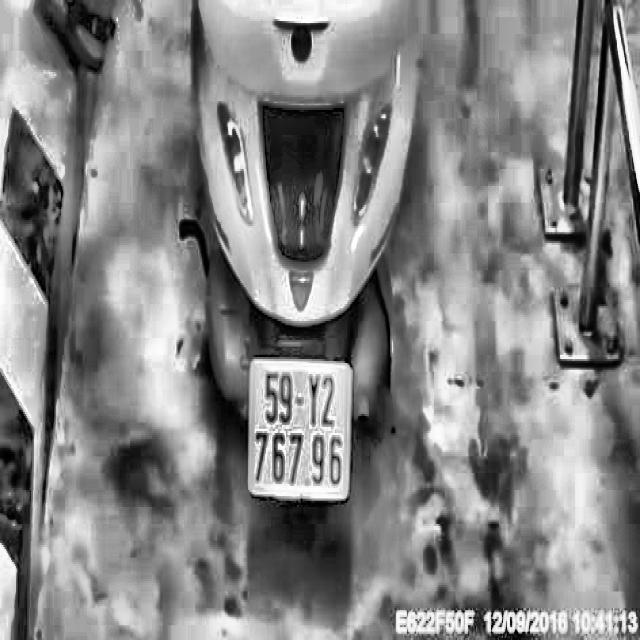plate: (244, 348, 355, 505)
